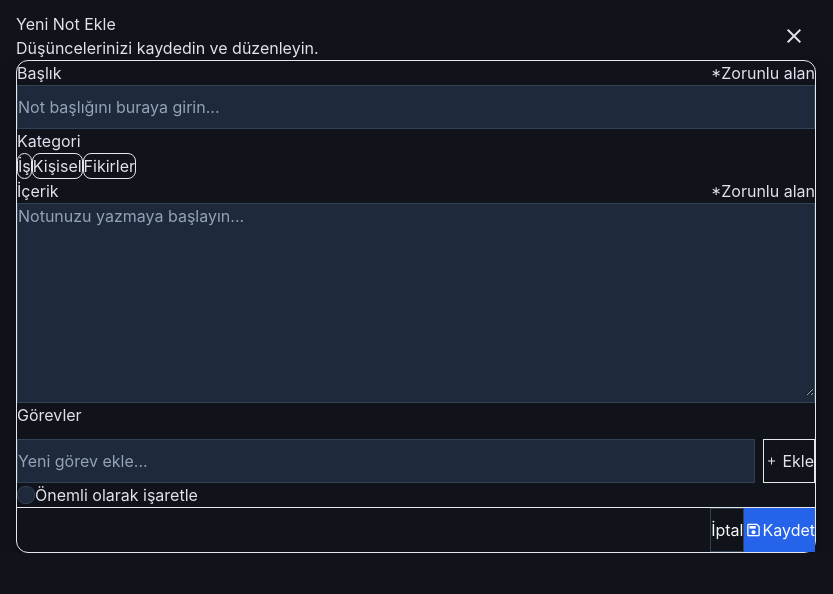
Test: NotEkleduzenle - Add Mode › can add todo with Enter key
The width and height of the screenshot is (833, 594).
Type "Enter görev" into the field with placeholder "Yeni görev ekle..." at coordinates (386, 461), box left=17, top=439, right=755, bottom=483
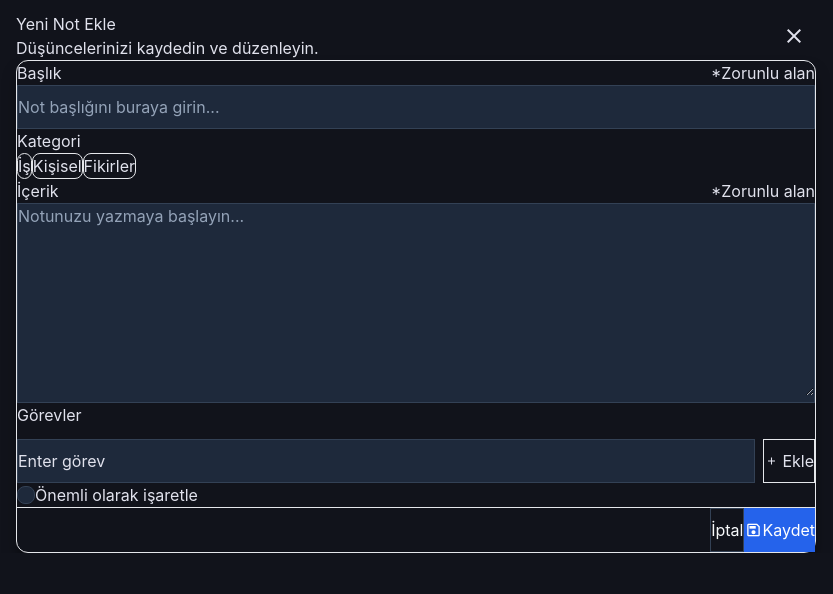
Press Enter in the field with placeholder "Yeni görev ekle...", box left=17, top=439, right=755, bottom=483
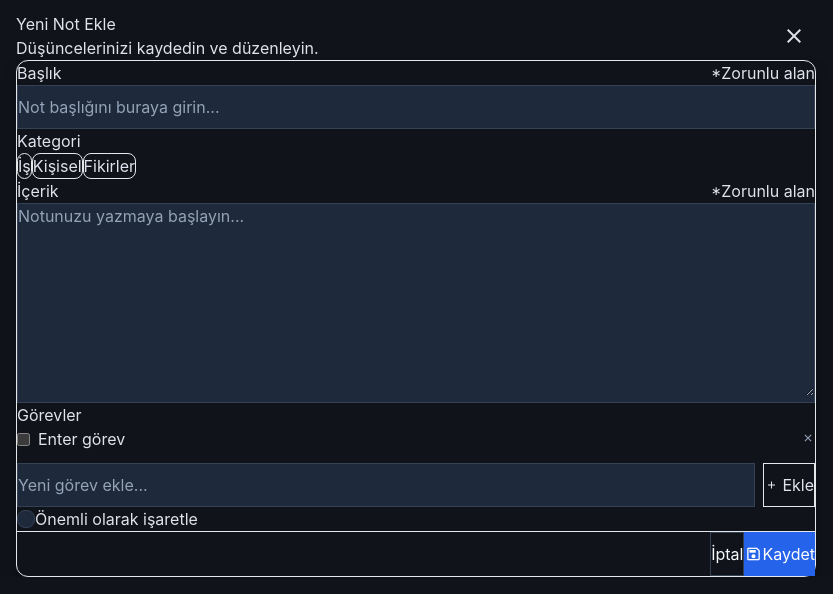
Expected: the text "Enter görev" is shown, left=38, top=429, right=125, bottom=449
